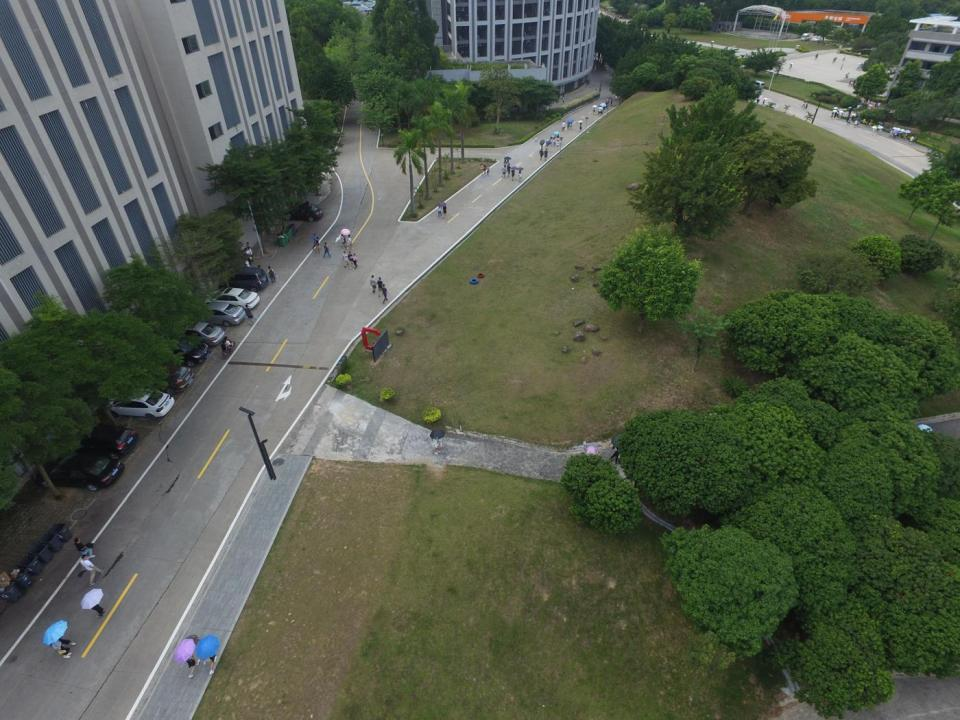car: (31, 450, 125, 492), (72, 423, 138, 459), (104, 388, 176, 418), (138, 362, 195, 394), (160, 338, 210, 366), (194, 302, 246, 327), (203, 288, 260, 310), (175, 321, 225, 346), (279, 203, 324, 221), (916, 424, 940, 444), (813, 35, 823, 42)
van: (217, 267, 268, 293), (748, 78, 765, 91), (800, 32, 814, 40)
